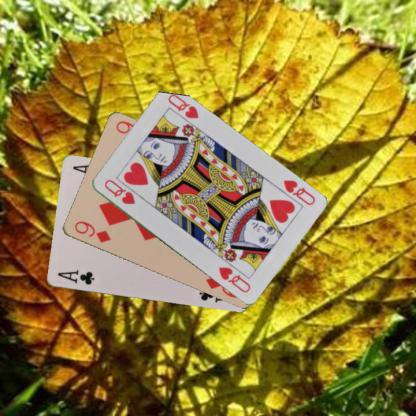9d: (71, 218, 112, 244)
Ac: (55, 267, 95, 287)
Qh: (280, 177, 317, 207), (101, 177, 136, 206)
